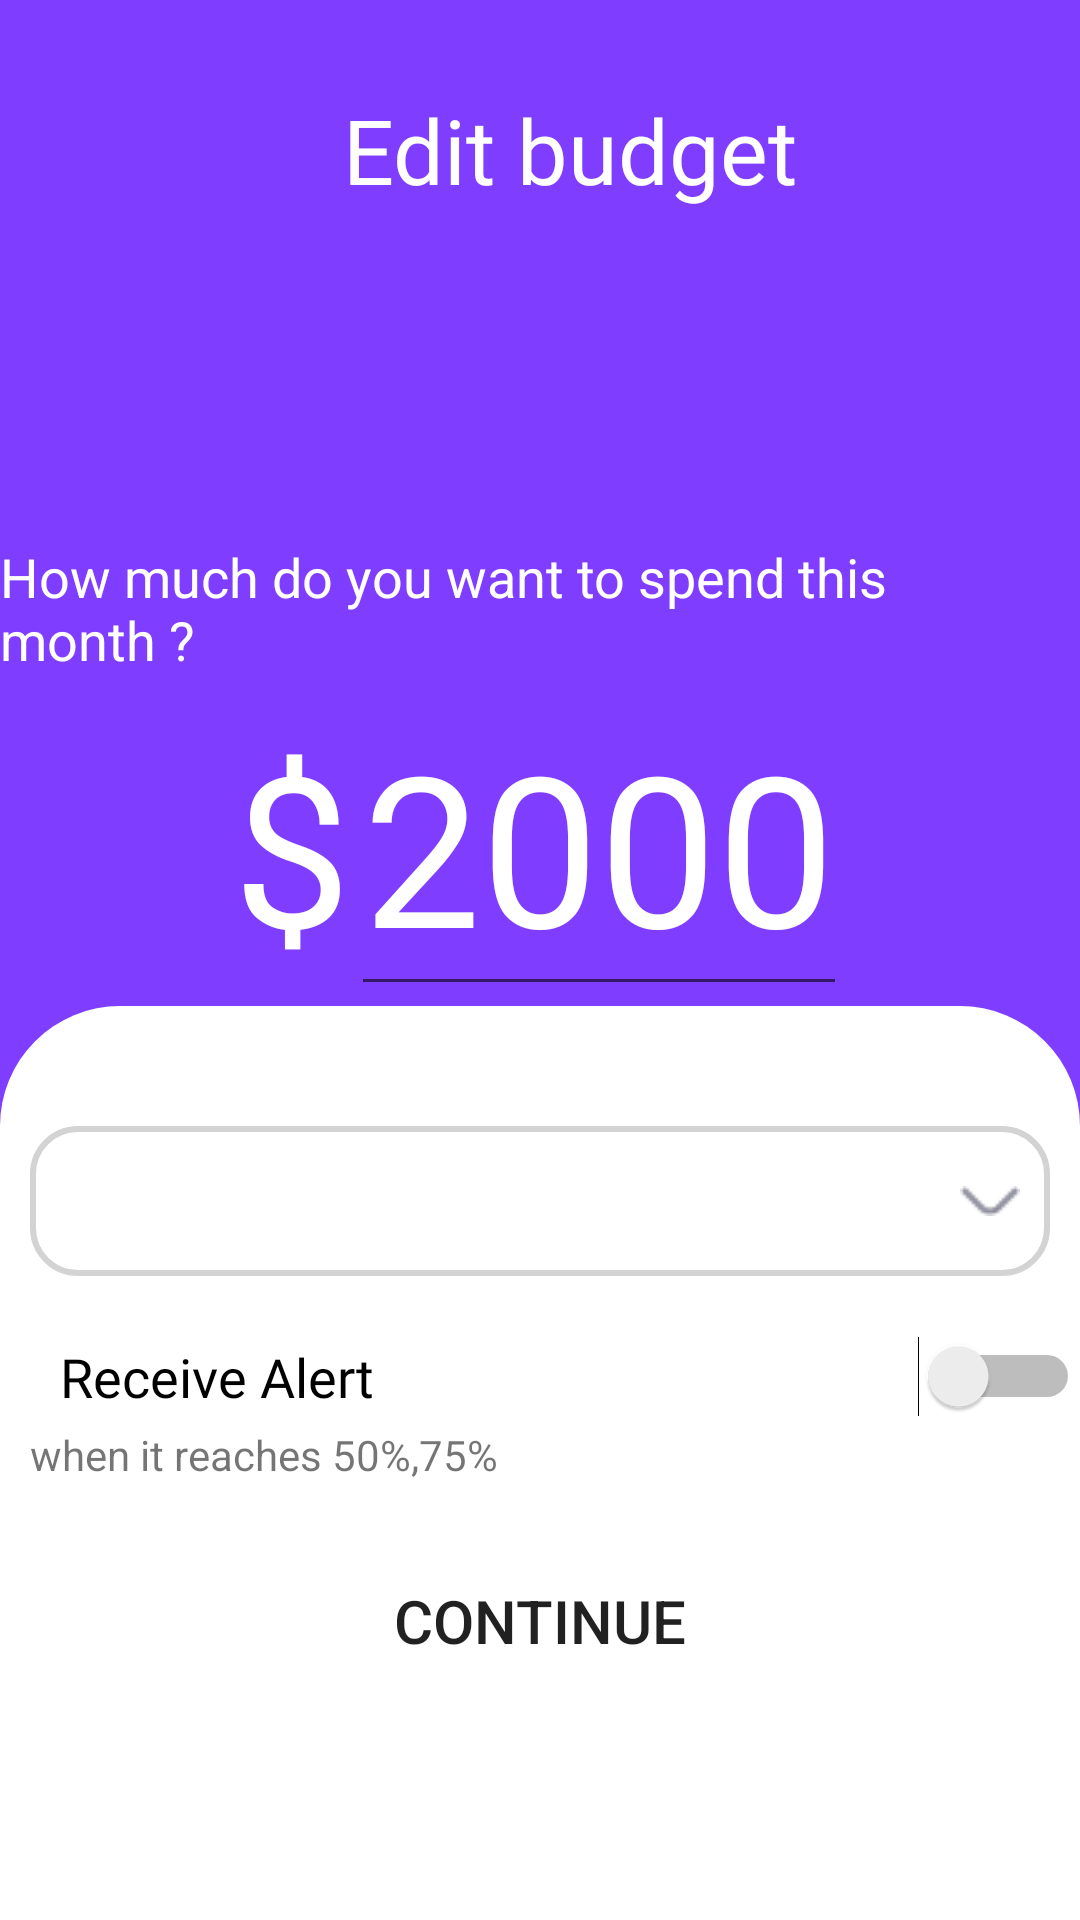

Where to tap for icons on this 1080 × 1920 app screen, as (x,y):
arrow down: (990,1201)
